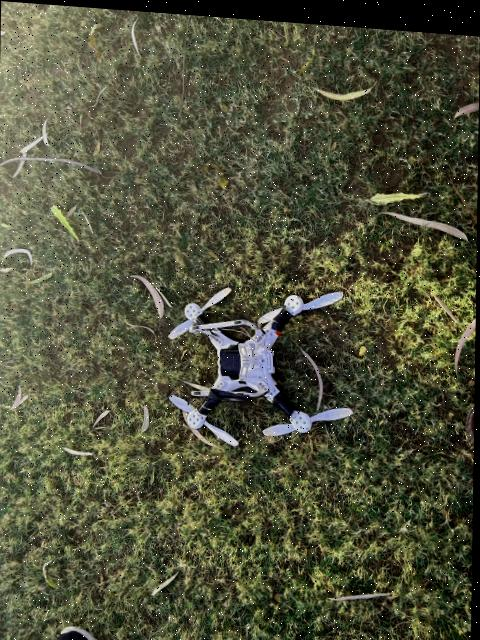drone: (75, 220, 413, 471)
